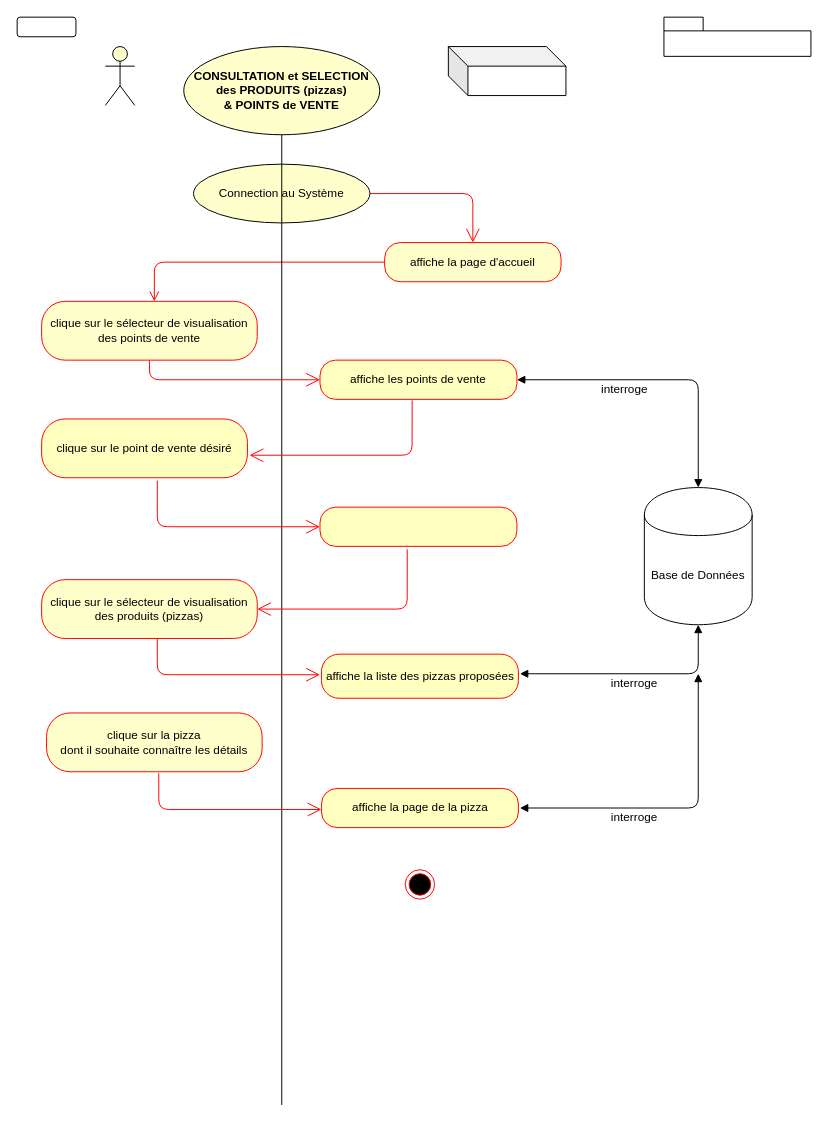
Image size: 828x1123. Some labels were removed from this diagram. Each missing label, with the box of its shape:
affiche le point de vente sélectionné & leurs coordonnées: (319, 506, 517, 546)
CLIENT: (104, 46, 135, 105)
Gestion des Commandes: (663, 16, 811, 56)
OC'Pizza: (16, 16, 76, 37)
SYSTEME: (447, 46, 566, 96)
